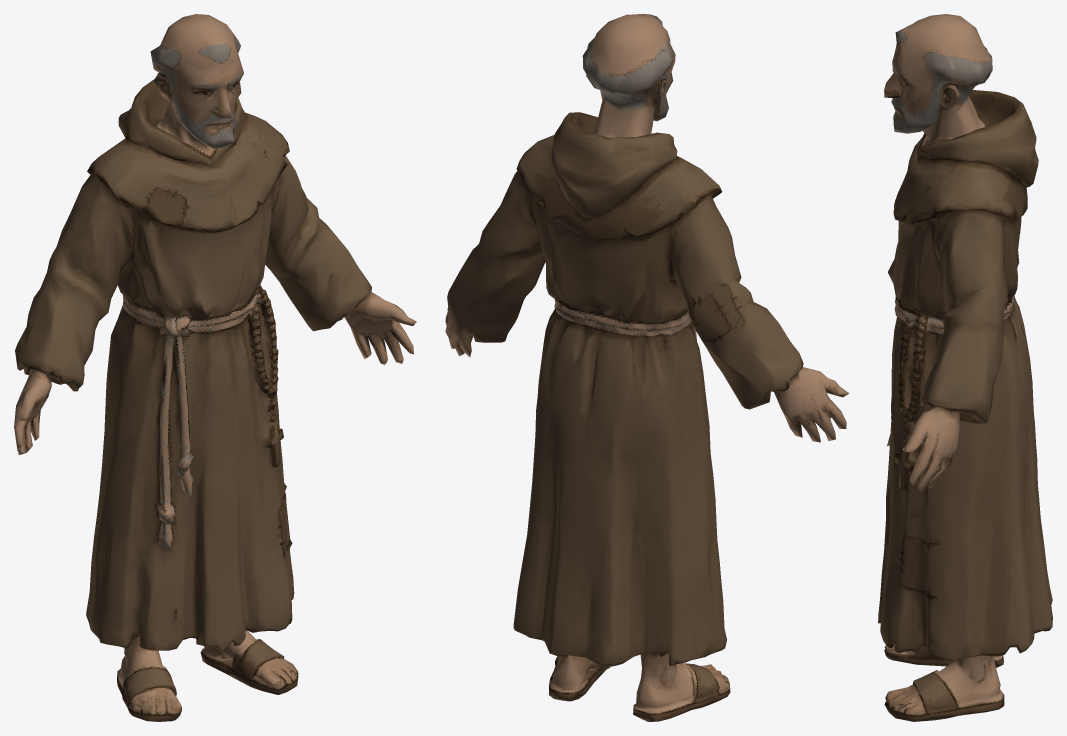
File: anselmo.glb
3 renders of one model, left to right at view 1: azimuth 30°, elevation 25°; view 2: azimuth 150°, elevation 25°; view 3: azimuth 270°, elevation 25°, orthographic.
Visible parts, largest first — view 1: tripo_node_a7d391df-d777-41f5-89b2-28a9d3a9c75a; view 2: tripo_node_a7d391df-d777-41f5-89b2-28a9d3a9c75a; view 3: tripo_node_a7d391df-d777-41f5-89b2-28a9d3a9c75a.
Boxes of the visible parts, bbox=[...] form: tripo_node_a7d391df-d777-41f5-89b2-28a9d3a9c75a: bbox=[14, 14, 416, 721]; tripo_node_a7d391df-d777-41f5-89b2-28a9d3a9c75a: bbox=[445, 14, 849, 721]; tripo_node_a7d391df-d777-41f5-89b2-28a9d3a9c75a: bbox=[878, 14, 1052, 721].
Bounding box in the file's own units: 0.6229 × 1 × 0.2382.
1 material, 1 textured.
